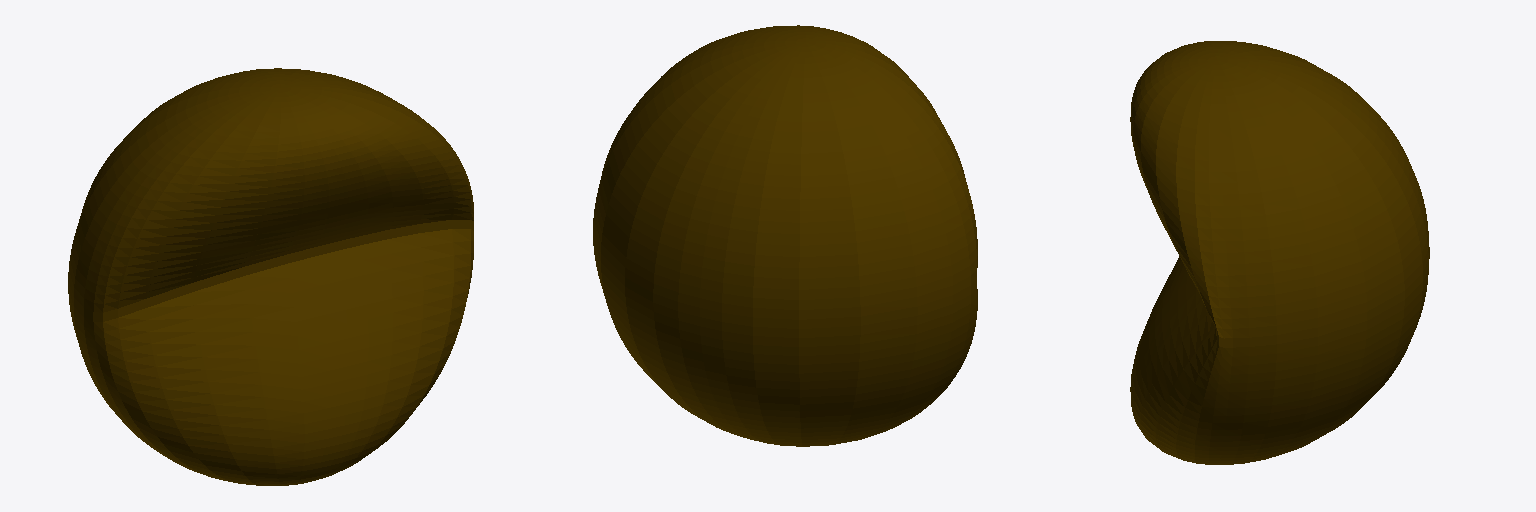
The model's file is pacman2.obj.
3 renders of one model, left to right at view 1: azimuth 30°, elevation 25°; view 2: azimuth 150°, elevation 25°; view 3: azimuth 270°, elevation 25°, orthographic.
Parts seen in each view (by area): view 1: SphèreSurf; view 2: SphèreSurf; view 3: SphèreSurf.
Boxes of the visible parts, x1,y1,x2,y2 form: SphèreSurf: [68, 68, 473, 485]; SphèreSurf: [593, 25, 977, 446]; SphèreSurf: [1130, 41, 1429, 464].
Bounding box in the file's own units: 4.08 × 4 × 2.82.